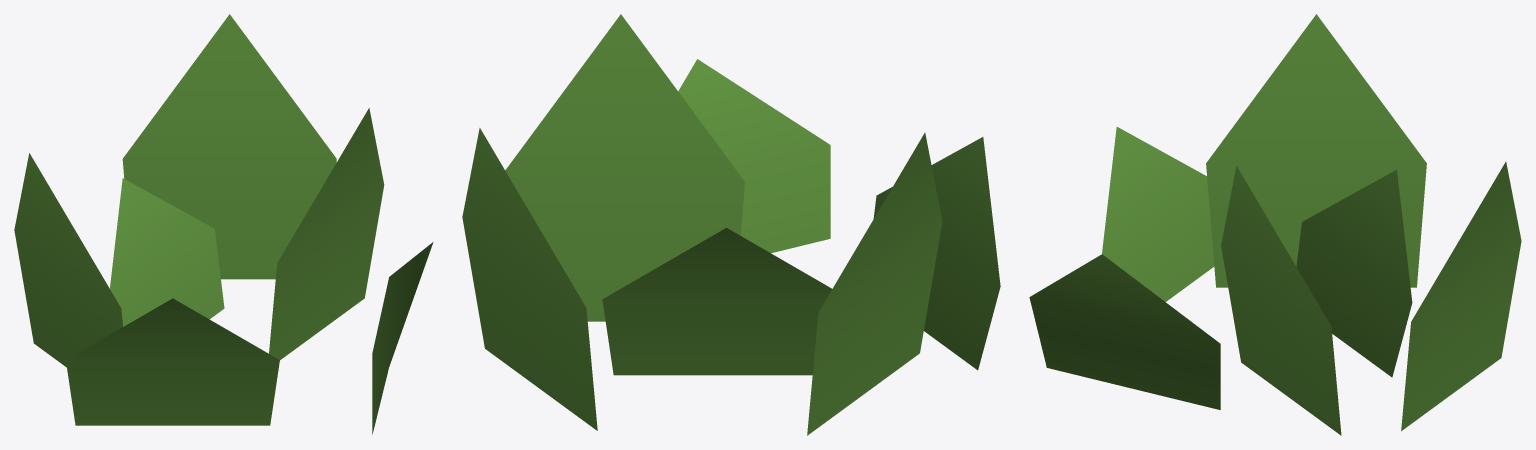
The model's file is grass_leafs.glb.
3 views of the same model, side by side, from view 1: azimuth 30°, elevation 25°; view 2: azimuth 150°, elevation 25°; view 3: azimuth 270°, elevation 25° (orthographic). The views are drawn at different scales.
Visible parts, largest first — view 1: grass_leafs; view 2: grass_leafs; view 3: grass_leafs.
Part boxes in pixels (box(x1,y1,x2,y2)): grass_leafs: box(14, 14, 433, 434); grass_leafs: box(462, 14, 1000, 435); grass_leafs: box(1029, 14, 1521, 435).
Bounding box in the file's own units: 0.469 × 0.285 × 0.5146.
